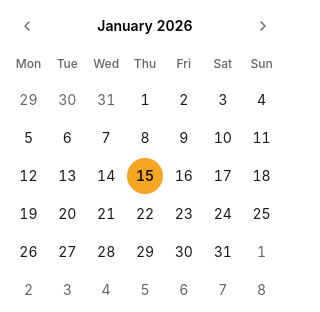
Calendar › navigates months
The width and height of the screenshot is (320, 312).
Click the button named "Next month" at (263, 26), box x1=249 y1=12 x2=277 y2=40
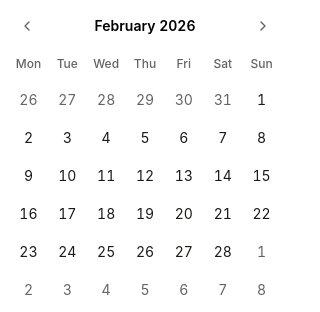
Expected: the text "February 2026" is shown, x1=94 y1=16 x2=196 y2=36
